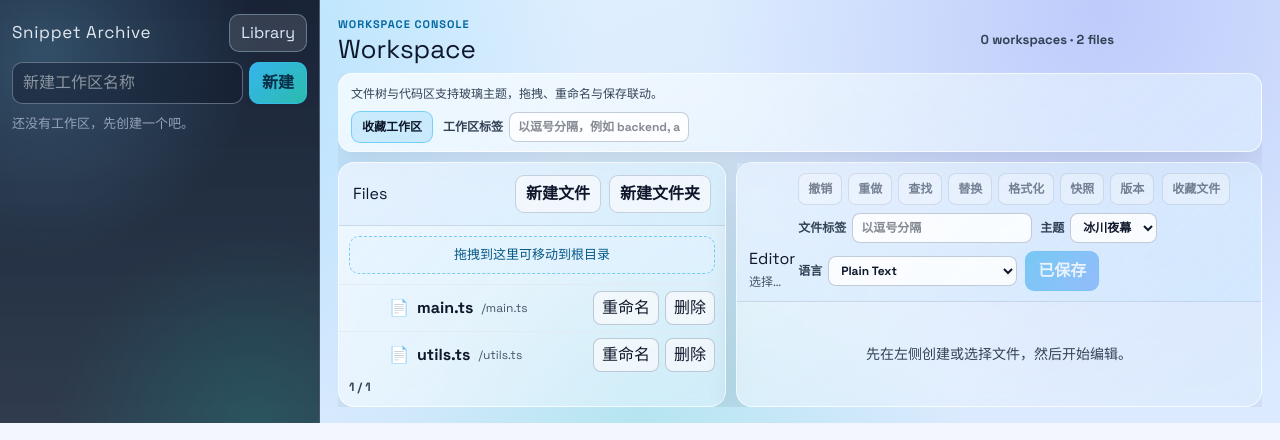
Test: App inline rename › submits valid rename through move api
Click the 1st button with test id "rename-item" at {"x": 626, "y": 308}, box x1=593 y1=291 x2=659 y2=325
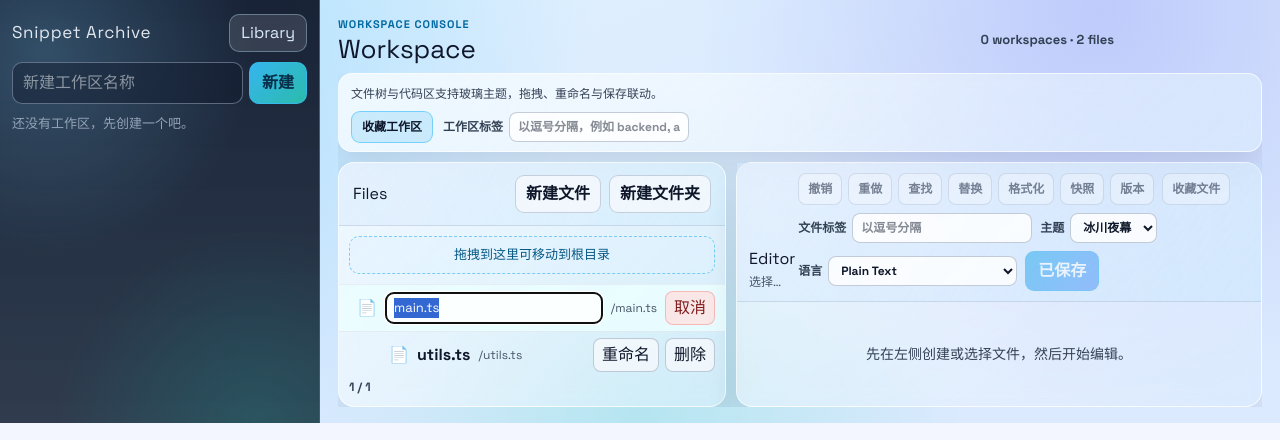
Replace the text in the field with test id "rename-inline-input" with "feature.ts" at {"x": 494, "y": 308}, box x1=385 y1=292 x2=603 y2=324
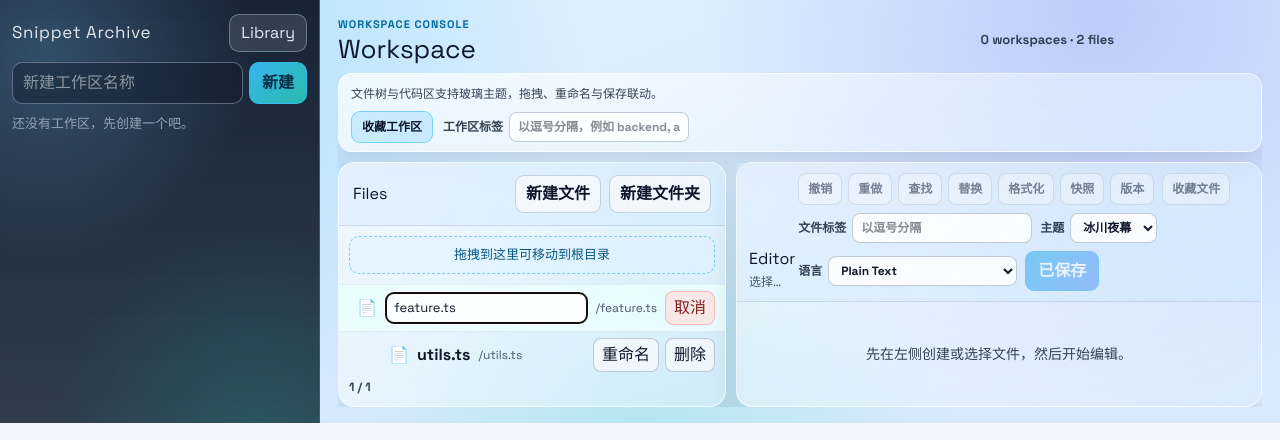
Leave the field with test id "rename-inline-input", box x1=385 y1=292 x2=588 y2=324
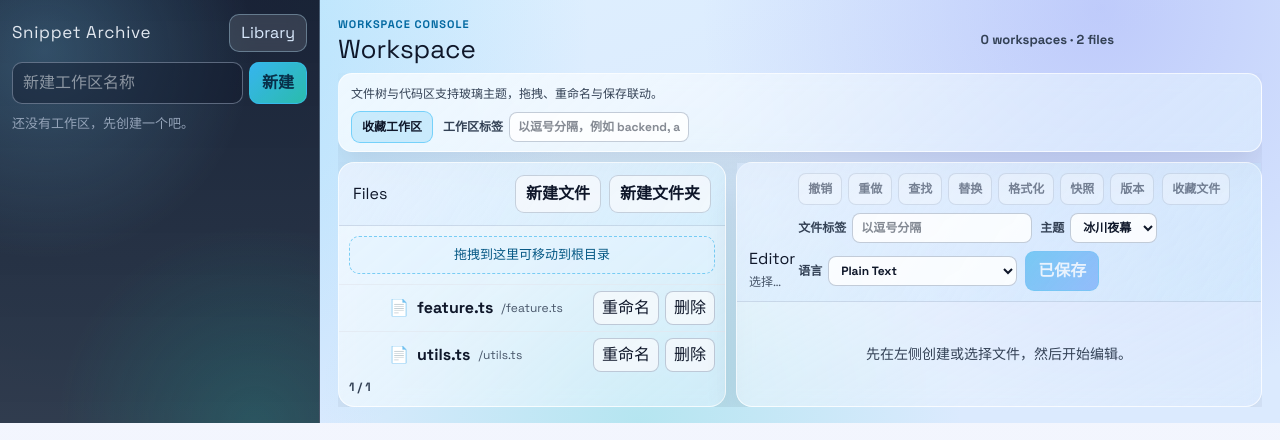
Result: the text with class "name" reads "feature.ts" at x1=417 y1=297 x2=493 y2=318
